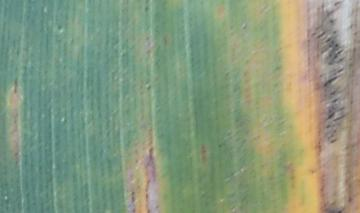tarspot: (143, 1, 151, 13), (241, 21, 248, 29), (56, 23, 62, 32)
